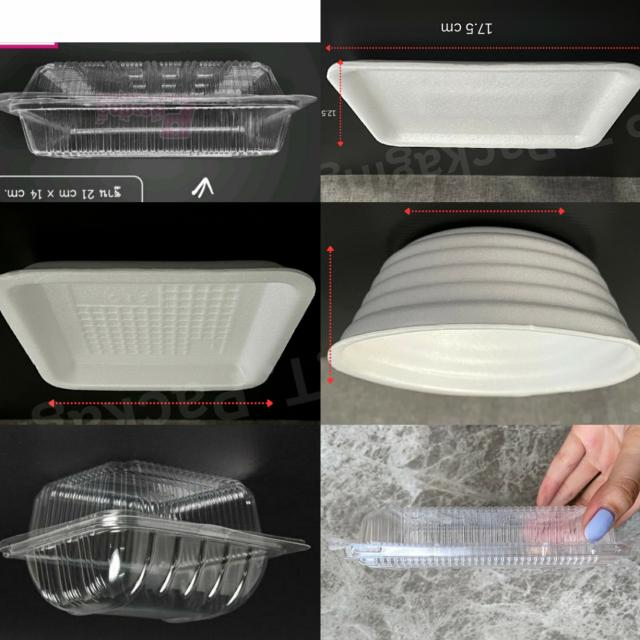plastik: (332, 227, 640, 397), (0, 461, 309, 623), (0, 261, 315, 390), (0, 61, 316, 158), (327, 61, 640, 149), (331, 506, 631, 568)
